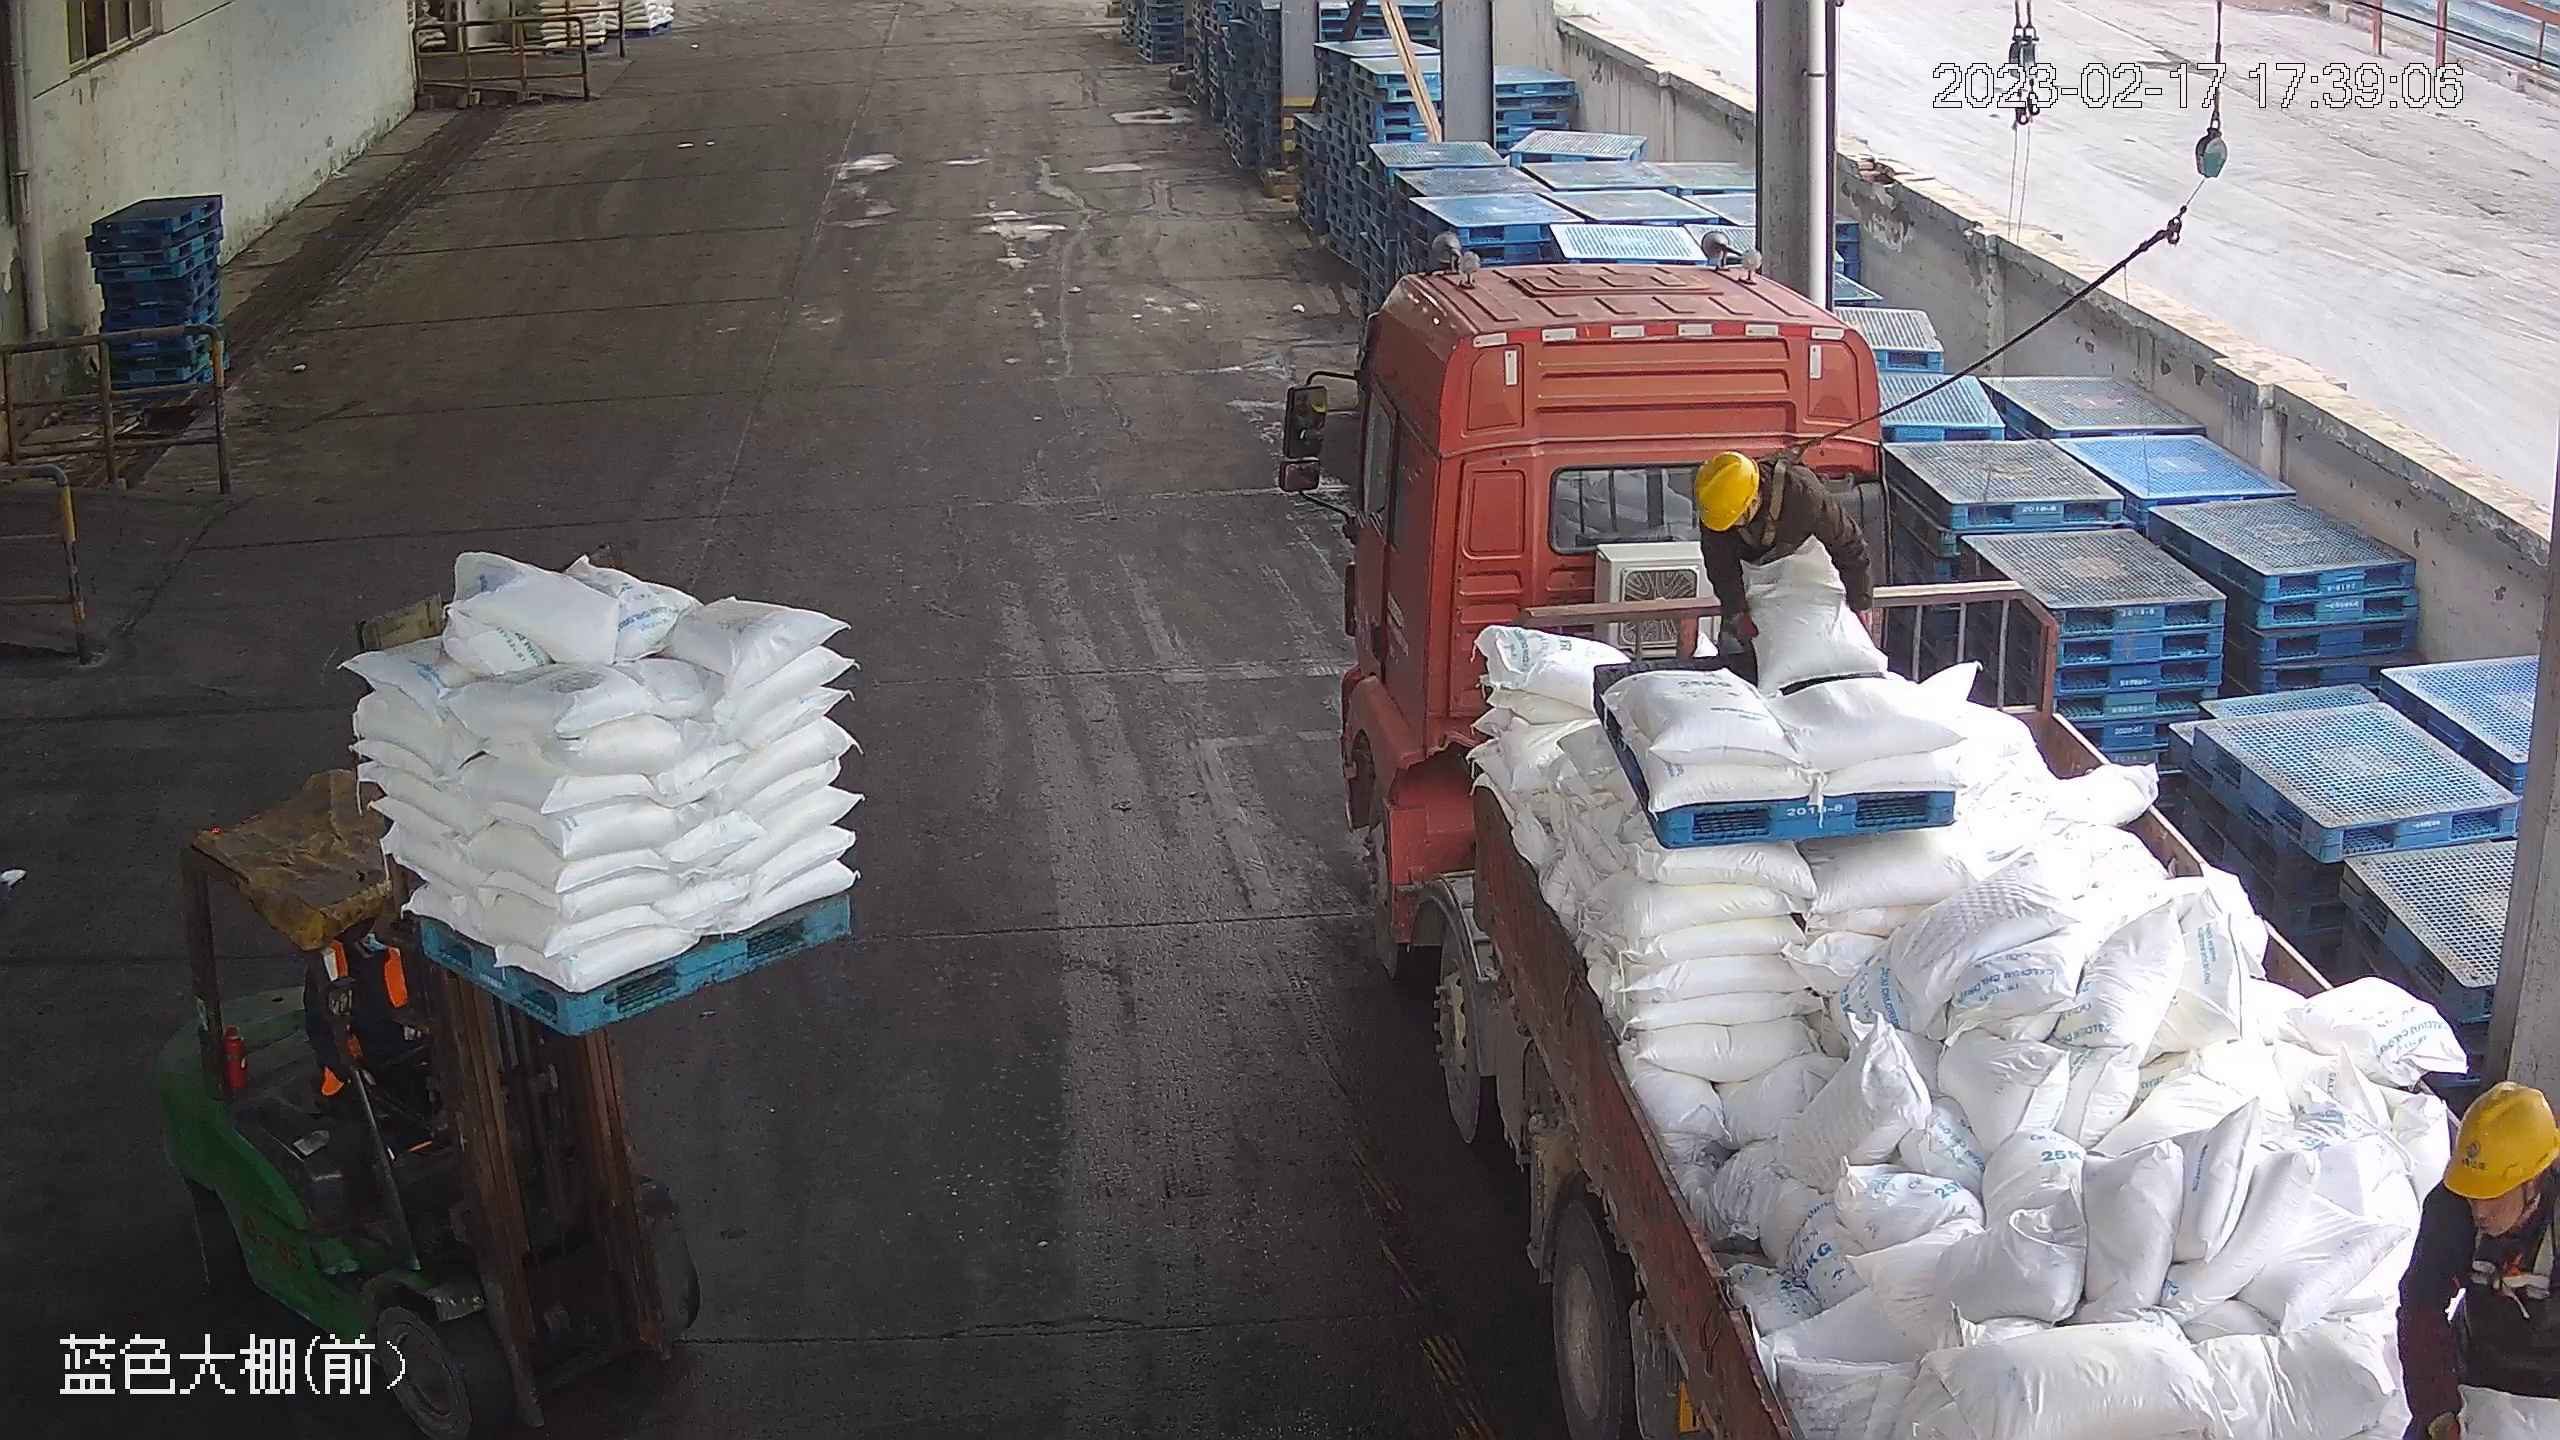belt: (2455, 1177, 2560, 1311), (1737, 444, 1816, 551)
head: (2408, 1078, 2559, 1312), (1691, 444, 1819, 545)
helmet: (2438, 1078, 2560, 1199), (1692, 448, 1759, 531)
people: (1689, 444, 1882, 679)
truck: (1303, 201, 2558, 1440)
